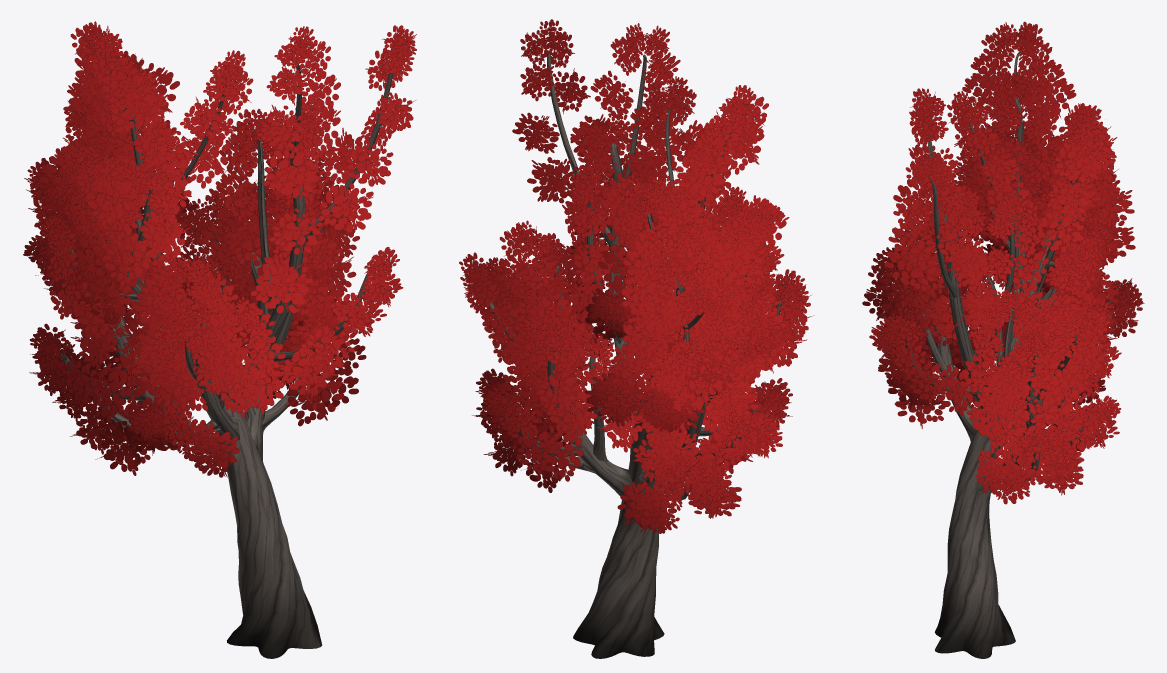
The model's file is TwistedTree_2.gltf.
The picture shows the model from 3 angles, left to right: view 1: azimuth 30°, elevation 25°; view 2: azimuth 150°, elevation 25°; view 3: azimuth 270°, elevation 25°; orthographic projection. The views are drawn at different scales.
Parts seen in each view (by area): view 1: TwistedTree_2; view 2: TwistedTree_2; view 3: TwistedTree_2.
Part boxes in pixels (x1,y1,x2,y2): TwistedTree_2: (23, 21, 416, 658); TwistedTree_2: (459, 19, 814, 658); TwistedTree_2: (862, 21, 1144, 658).
Bounding box in the file's own units: 10.56 × 18.95 × 9.2.
Materials: 2 (2 with a texture image).
